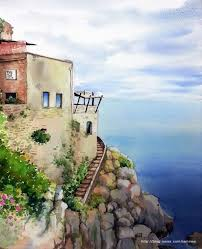house: (8, 45, 101, 239)
sea: (104, 95, 202, 228)
sky: (30, 4, 199, 99)
